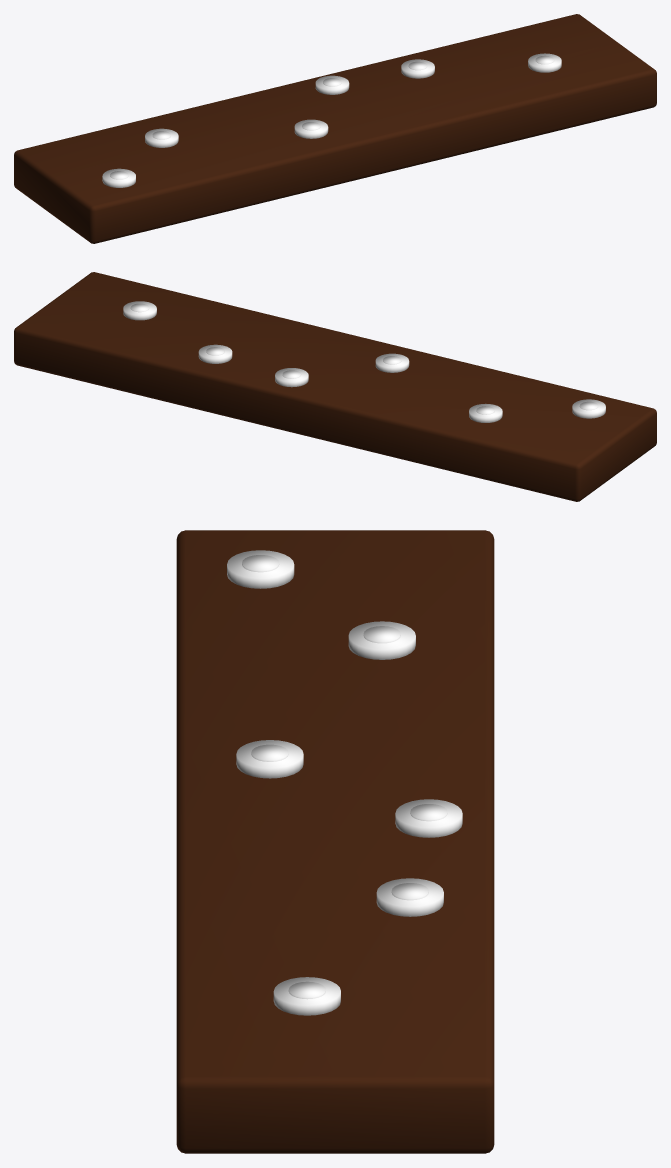
Rendered from damaged-wood-with-termite-holes.obj.
The picture shows the model from 3 angles, top to bottom: view 1: azimuth 30°, elevation 25°; view 2: azimuth 150°, elevation 25°; view 3: azimuth 270°, elevation 25°; orthographic projection. The views are drawn at different scales.
Visible parts, largest first — view 1: damaged-wood-with-termite-holes; view 2: damaged-wood-with-termite-holes; view 3: damaged-wood-with-termite-holes.
Boxes of the visible parts, bbox=[...] form: damaged-wood-with-termite-holes: bbox=[14, 14, 656, 243]; damaged-wood-with-termite-holes: bbox=[14, 272, 656, 501]; damaged-wood-with-termite-holes: bbox=[176, 530, 494, 1153].
Bounding box in the file's own units: 1.4 × 0.104 × 0.34.
